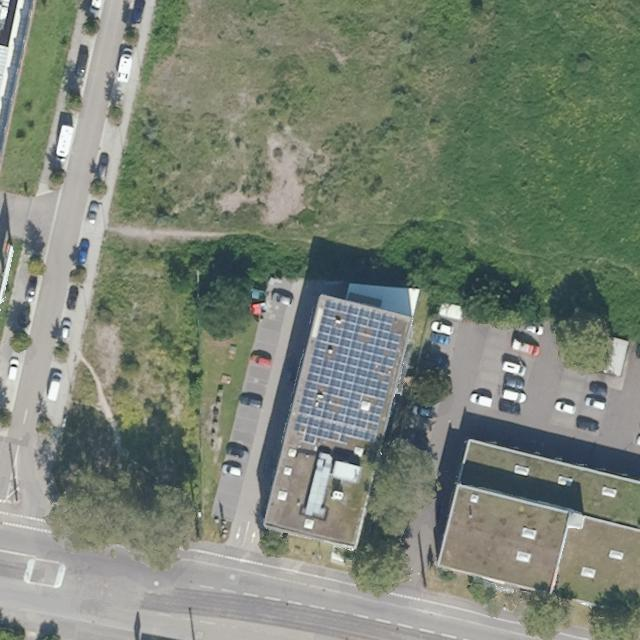PV: (290, 297, 404, 450)
